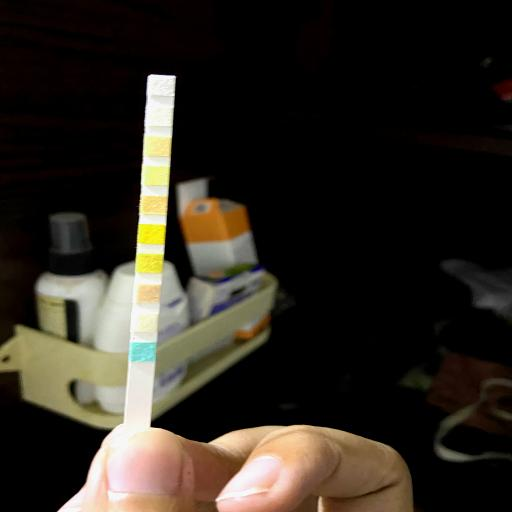Bilirubin: (132, 313, 158, 331)
Blood: (140, 226, 166, 244)
Glucose: (132, 342, 156, 360)
Ketone: (136, 284, 160, 302)
Leukocytes: (150, 78, 174, 96)
Nitrite: (148, 107, 172, 125)
Protein: (145, 166, 169, 184)
SpGravity: (137, 254, 163, 272)
Urobilinogen: (146, 137, 172, 155)
pH: (142, 196, 167, 214)
strip: (124, 75, 175, 427)
